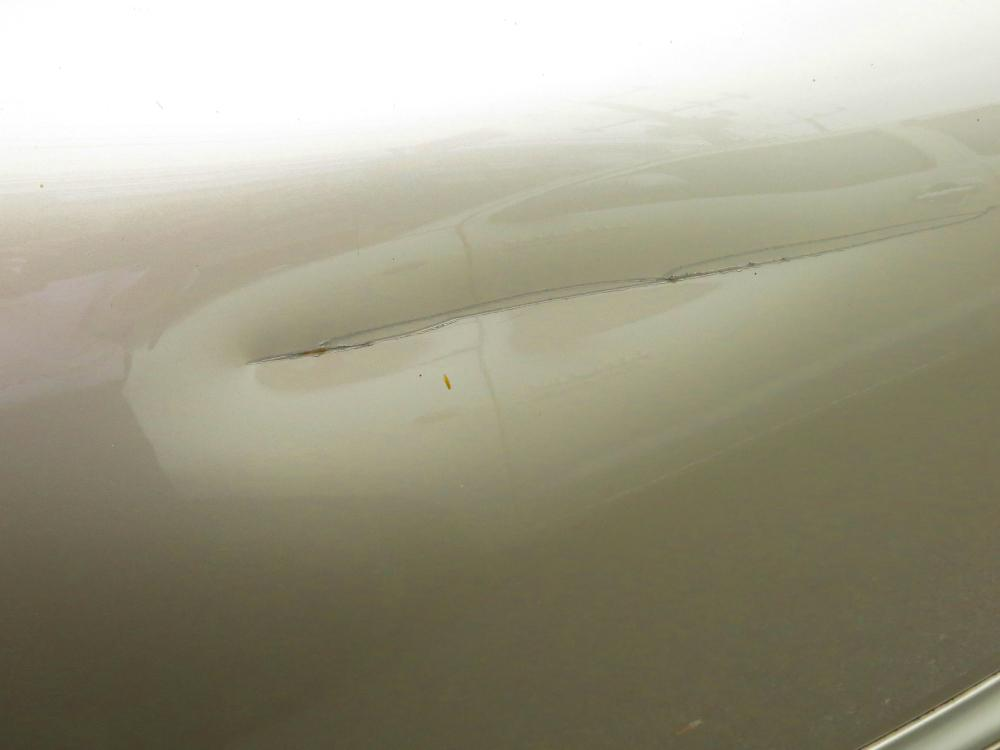dent: (202, 216, 764, 465)
